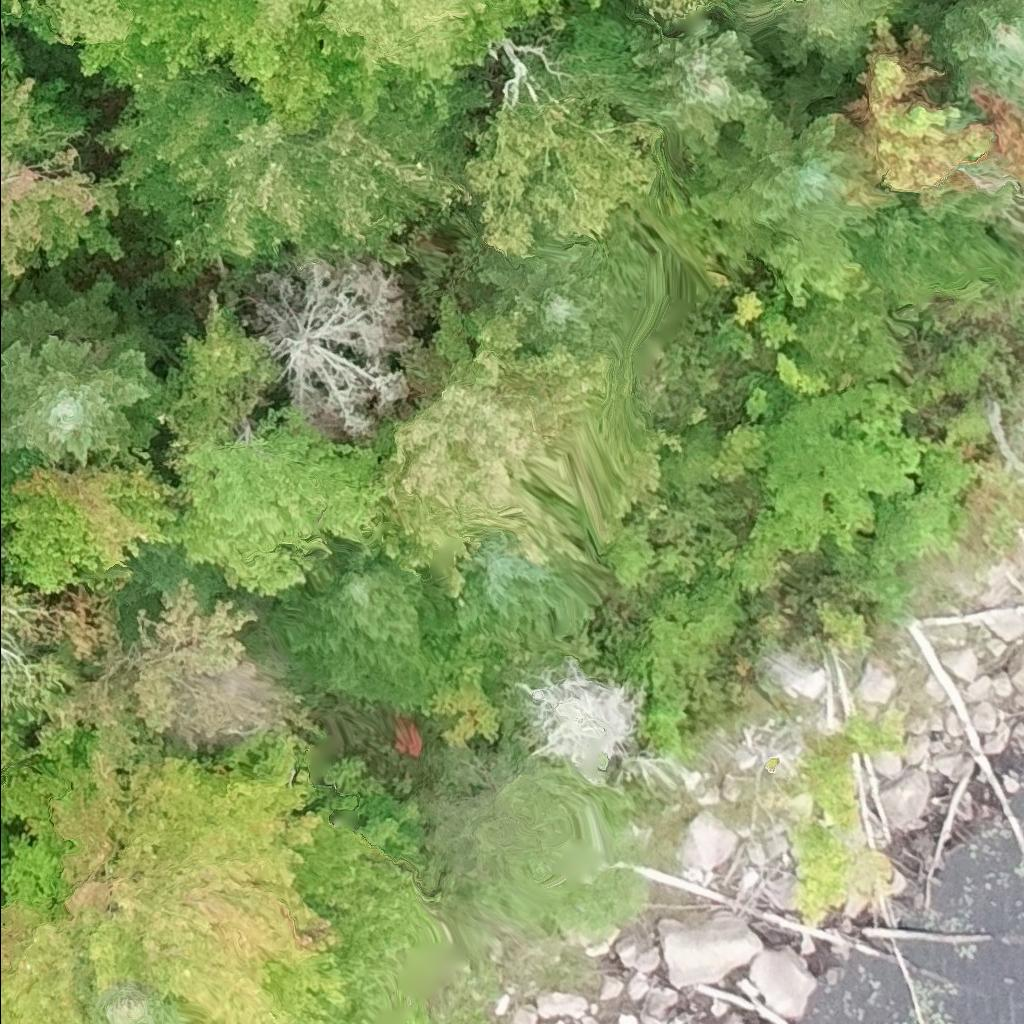crown: (46, 731, 345, 1023), (367, 295, 621, 610), (86, 68, 465, 279), (159, 405, 401, 599), (731, 374, 924, 592), (234, 246, 419, 443), (457, 91, 665, 261), (0, 264, 172, 469), (256, 540, 463, 709), (839, 13, 1000, 210), (0, 51, 126, 301), (689, 106, 877, 269), (229, 33, 462, 140), (0, 458, 183, 594), (238, 0, 487, 87), (627, 21, 784, 155), (467, 234, 634, 356), (177, 284, 282, 438), (78, 0, 251, 92), (467, 546, 602, 639), (0, 905, 93, 1023), (915, 0, 1023, 99), (452, 0, 603, 64), (0, 0, 140, 51), (81, 981, 183, 1023), (0, 8, 21, 68), (0, 726, 21, 777), (666, 0, 713, 10), (759, 0, 796, 5)
